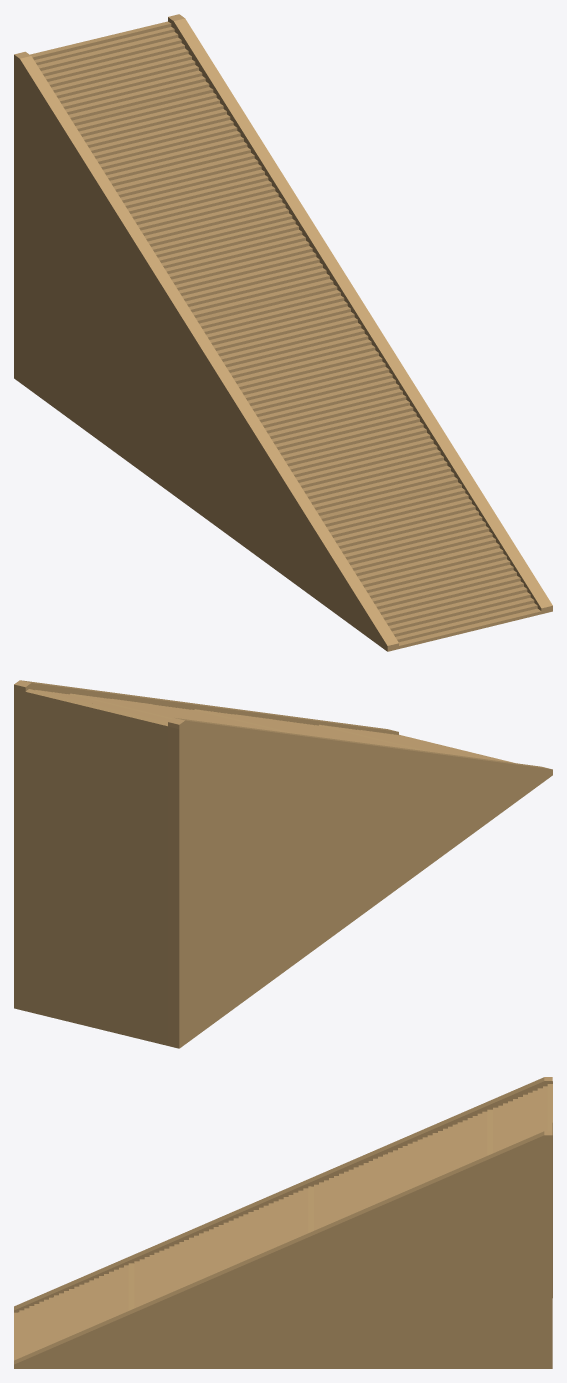
File: TallStairsH9_01.fbx
The picture shows the model from 3 angles, top to bottom: view 1: azimuth 30°, elevation 25°; view 2: azimuth 150°, elevation 25°; view 3: azimuth 270°, elevation 25°; orthographic projection. The views are drawn at different scales.
Visible parts, largest first — view 1: StairsSides; view 2: StairsSides; view 3: StairsSides.
Boxes of the visible parts, box(x1,y1,x2,y2) form: StairsSides: box(14, 14, 552, 651); StairsSides: box(14, 680, 552, 1048); StairsSides: box(14, 1077, 552, 1368).
Bounding box in the file's own units: 971 × 1817 × 3800.
